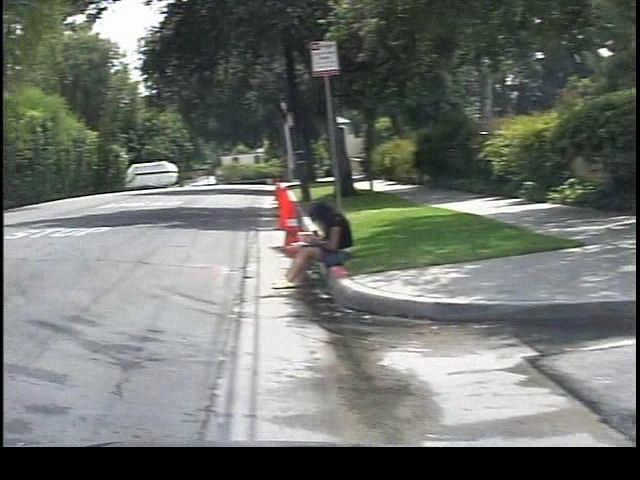person: (260, 197, 350, 292)
